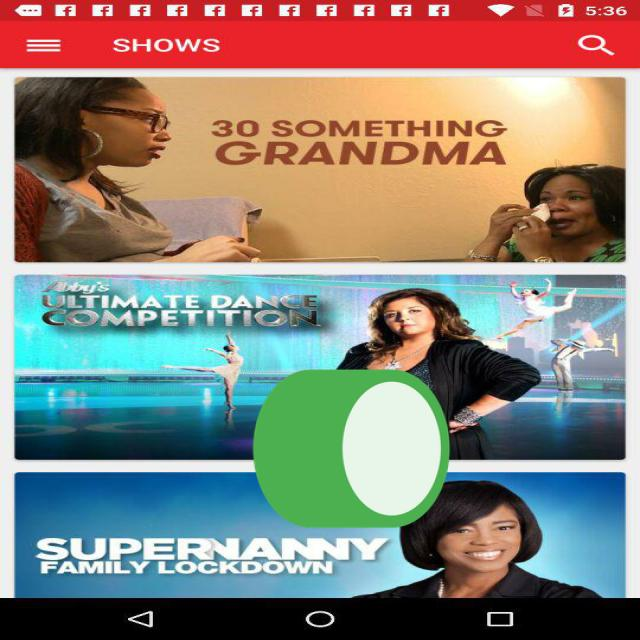social proof: (244, 308, 459, 600)
